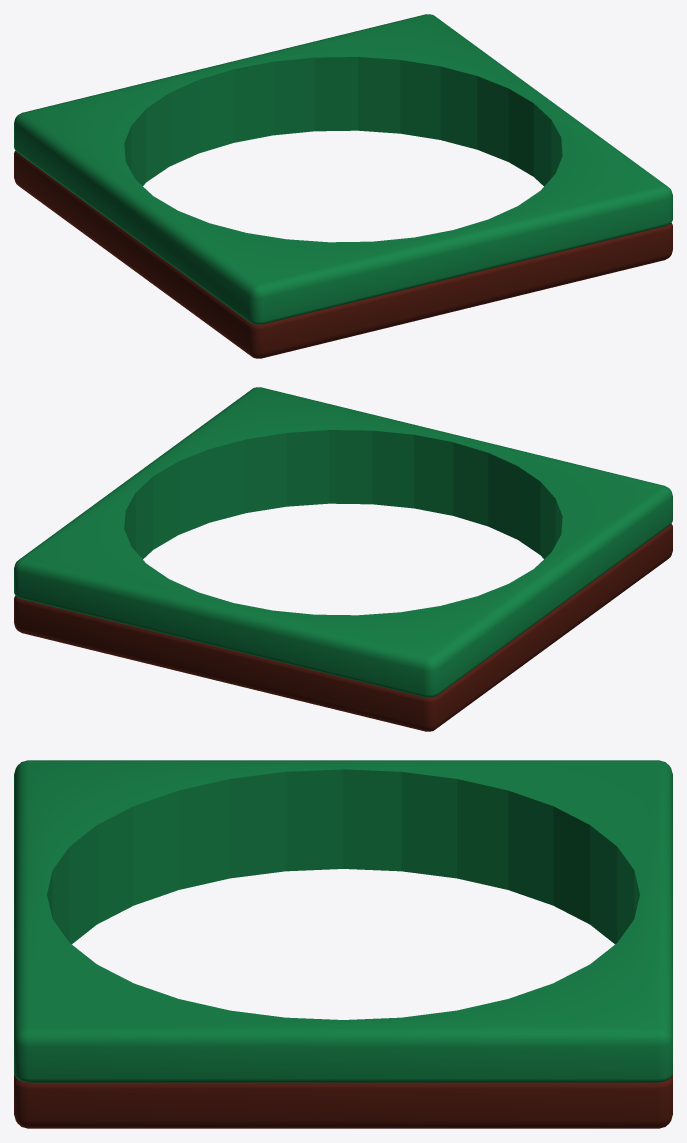
The model's file is tileLarge_forest_with_LargeHole.obj.
The picture shows the model from 3 angles, top to bottom: view 1: azimuth 30°, elevation 25°; view 2: azimuth 150°, elevation 25°; view 3: azimuth 270°, elevation 25°; orthographic projection. The views are drawn at different scales.
Visible parts, largest first — view 1: tileLarge_forest; view 2: tileLarge_forest; view 3: tileLarge_forest.
Boxes of the visible parts, <box> form: tileLarge_forest: <box>14,14,672,358</box>; tileLarge_forest: <box>14,387,672,731</box>; tileLarge_forest: <box>14,760,672,1128</box>.
Bounding box in the file's own units: 6 × 1 × 6.
